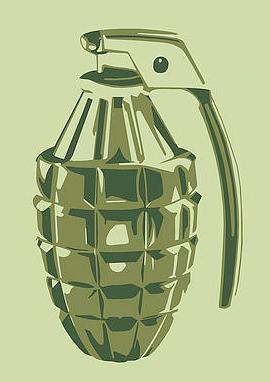Grenade: (34, 27, 242, 363)
